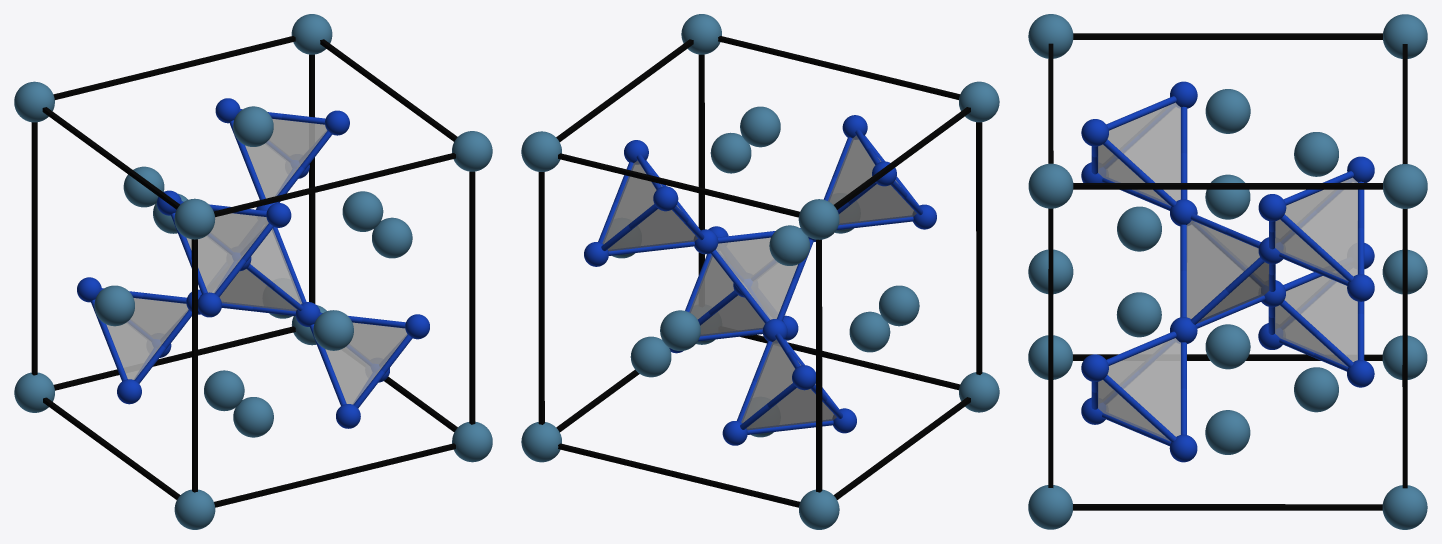
The model's file is CaNi2.glb.
The picture shows the model from 3 angles, left to right: view 1: azimuth 30°, elevation 25°; view 2: azimuth 150°, elevation 25°; view 3: azimuth 270°, elevation 25°; orthographic projection. The views are drawn at different scales.
Visible parts, largest first — view 1: CMPoly2, CMPoly6, CMPoly0, CMPoly7, CMPoly3, CMPoly1, CMPoly4, CMPoly5, CMPoly8, CMPoly9, UnitCellSegment_8, UnitCellSegment_11 (+25 smaller); view 2: CMPoly0, CMPoly2, CMPoly1, CMPoly3, CMPoly4, CMPoly8, CMPoly5, CMPoly9, CMPoly6, CMPoly7, UnitCellSegment_9, UnitCellSegment_10 (+24 smaller); view 3: CMPoly6, CMPoly8, CMPoly7, CMPoly9, CMPoly0, CMPoly1, CMPoly4, CMPoly5, CMPoly2, CMPoly3, UnitCellSegment_1, UnitCellSegment_2 (+34 smaller).
Boxes of the visible parts, x1=… form: CMPoly2: x1=106, y1=298, x2=188, y2=379; CMPoly6: x1=325, y1=322, x2=407, y2=404; CMPoly0: x1=245, y1=119, x2=327, y2=198; CMPoly7: x1=325, y1=323, x2=407, y2=404; CMPoly3: x1=107, y1=298, x2=188, y2=379; CMPoly1: x1=245, y1=119, x2=326, y2=198; CMPoly4: x1=186, y1=213, x2=268, y2=292; CMPoly5: x1=187, y1=213, x2=268, y2=292; CMPoly8: x1=219, y1=228, x2=301, y2=311; CMPoly9: x1=220, y1=229, x2=301, y2=310; UnitCellSegment_8: x1=31, y1=122, x2=37, y2=375; UnitCellSegment_11: x1=469, y1=171, x2=475, y2=424; CMPoly0: x1=602, y1=160, x2=697, y2=251; CMPoly2: x1=741, y1=339, x2=836, y2=430; CMPoly1: x1=603, y1=161, x2=697, y2=250; CMPoly3: x1=741, y1=340, x2=836, y2=429; CMPoly4: x1=828, y1=135, x2=916, y2=225; CMPoly8: x1=716, y1=237, x2=797, y2=319; CMPoly5: x1=828, y1=136, x2=916, y2=224; CMPoly9: x1=716, y1=238, x2=797, y2=319; CMPoly6: x1=689, y1=255, x2=764, y2=336; CMPoly7: x1=690, y1=256, x2=764, y2=336; UnitCellSegment_9: x1=976, y1=122, x2=982, y2=374; UnitCellSegment_10: x1=538, y1=172, x2=544, y2=424; CMPoly6: x1=1098, y1=338, x2=1180, y2=440; CMPoly8: x1=1186, y1=220, x2=1269, y2=323; CMPoly7: x1=1098, y1=338, x2=1180, y2=440; CMPoly9: x1=1187, y1=220, x2=1269, y2=322; CMPoly0: x1=1275, y1=177, x2=1357, y2=280; CMPoly1: x1=1275, y1=178, x2=1357, y2=279; CMPoly4: x1=1098, y1=102, x2=1180, y2=205; CMPoly5: x1=1098, y1=103, x2=1180, y2=205; CMPoly2: x1=1275, y1=276, x2=1357, y2=366; CMPoly3: x1=1275, y1=276, x2=1357, y2=365; UnitCellSegment_1: x1=1073, y1=33, x2=1382, y2=39; UnitCellSegment_2: x1=1073, y1=504, x2=1382, y2=510.
Bounding box in the file's own units: 0.6757 × 0.6761 × 0.6761.
